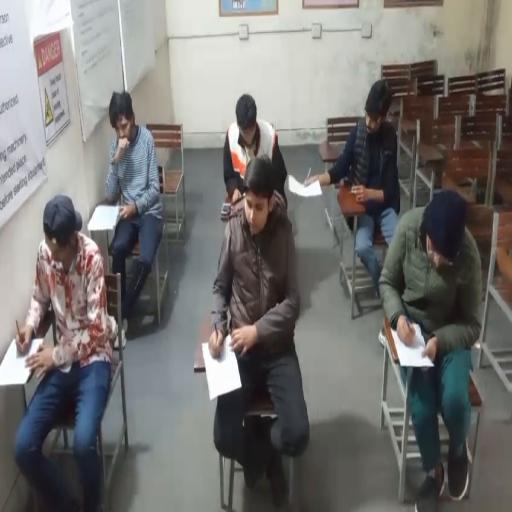paper: (201, 338, 241, 400), (0, 336, 42, 386), (394, 322, 434, 367), (286, 165, 322, 198), (88, 204, 122, 231)
